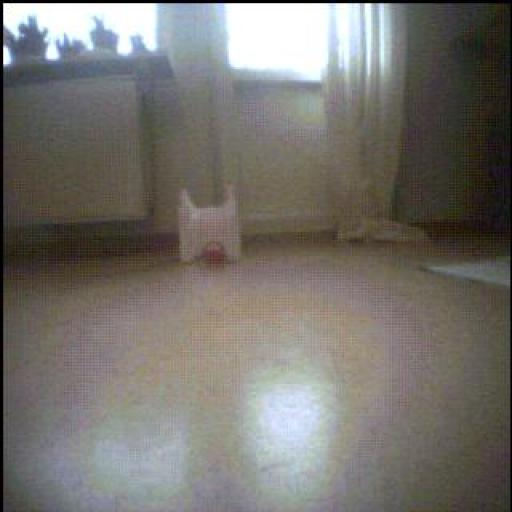Basket: (204, 243, 228, 265)
